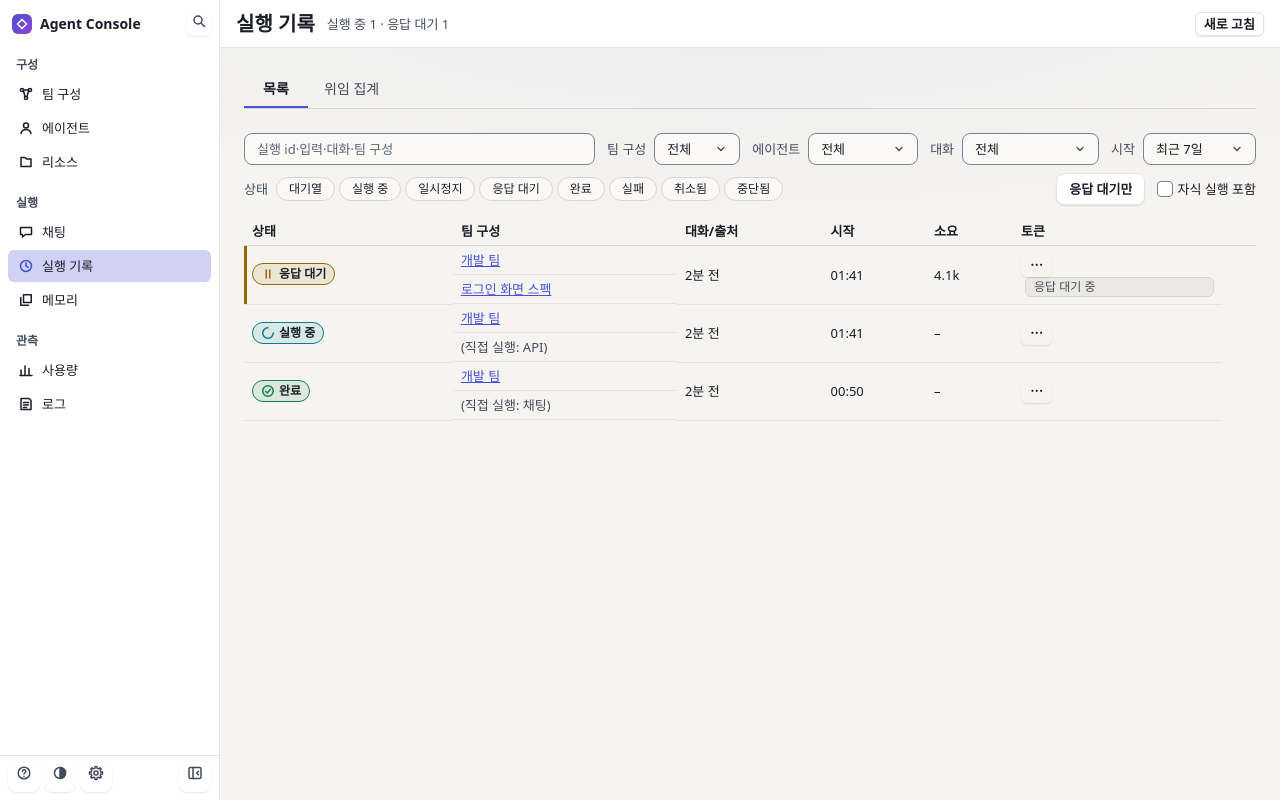
Test case: 실행 기록 목록 › [응답 대기만] 단축 필터가 상태를 URL에 반영하고, 결과가 없으면 필터 지우기를 안내한다
The width and height of the screenshot is (1280, 800).
Expected: the table named "실행 목록" is shown, left=244, top=217, right=1256, bottom=420
Click the button "응답 대기만" at (1101, 189), box left=1056, top=173, right=1146, bottom=205
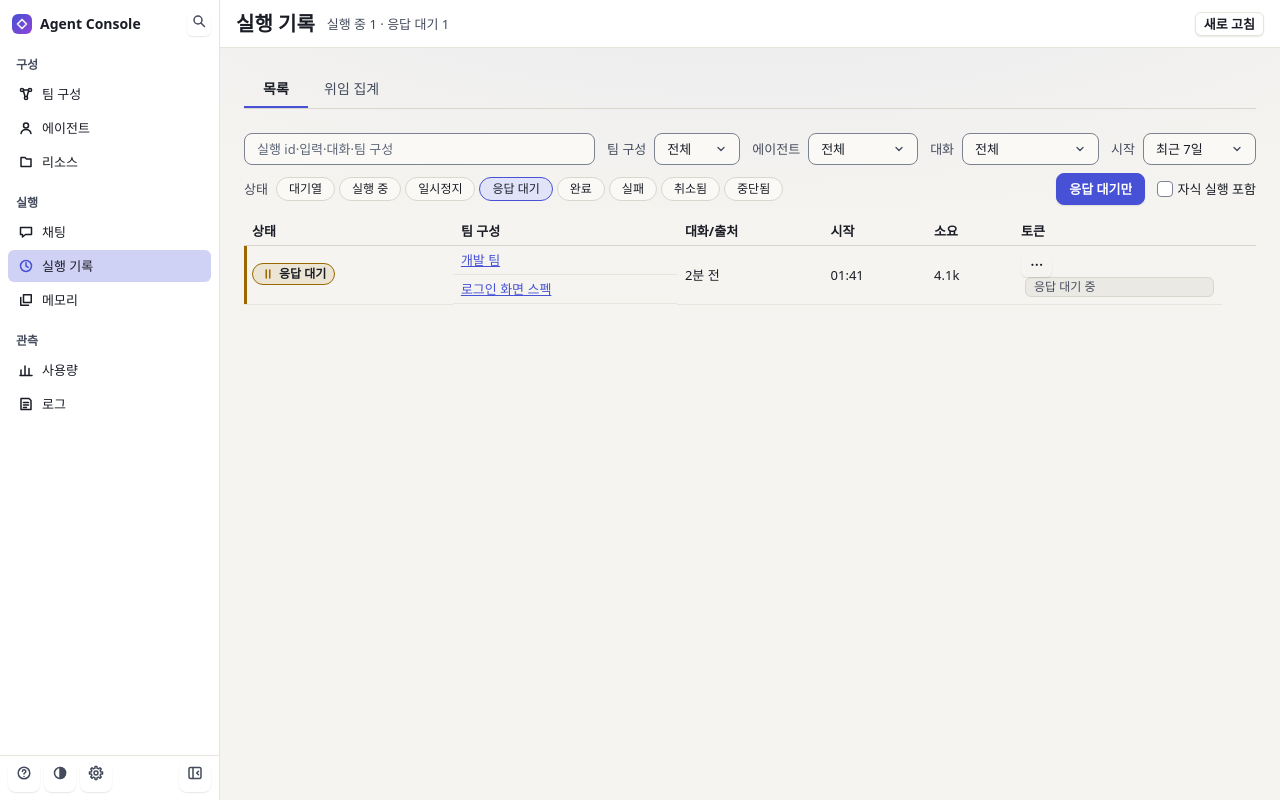
Expected: the number of rows is 2, left=244, top=217, right=1256, bottom=246; left=244, top=246, right=1256, bottom=304
Type "없는검색어" into the search field at (420, 149), box left=244, top=133, right=595, bottom=165
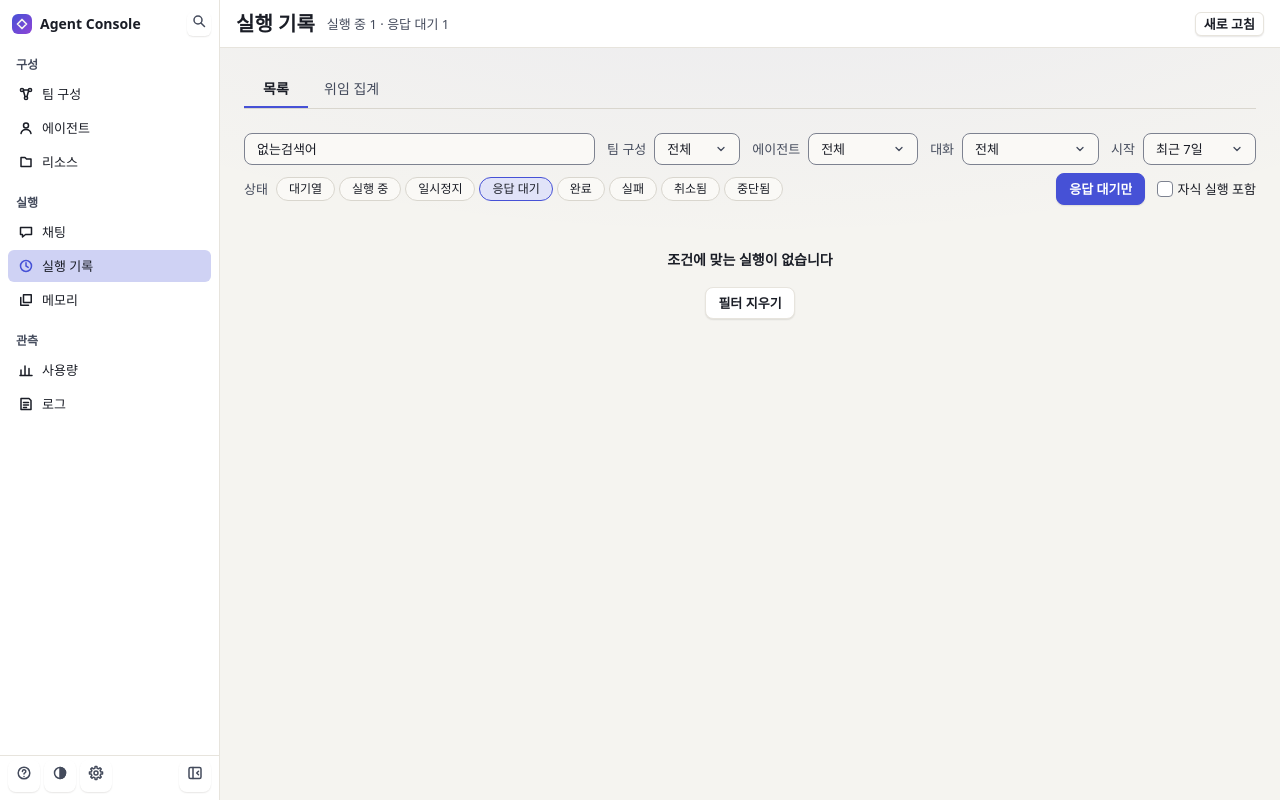
Expected: the heading "조건에 맞는 실행이 없습니다" is shown, left=667, top=249, right=833, bottom=271
Click the button "필터 지우기" at (750, 303), box left=705, top=287, right=795, bottom=319
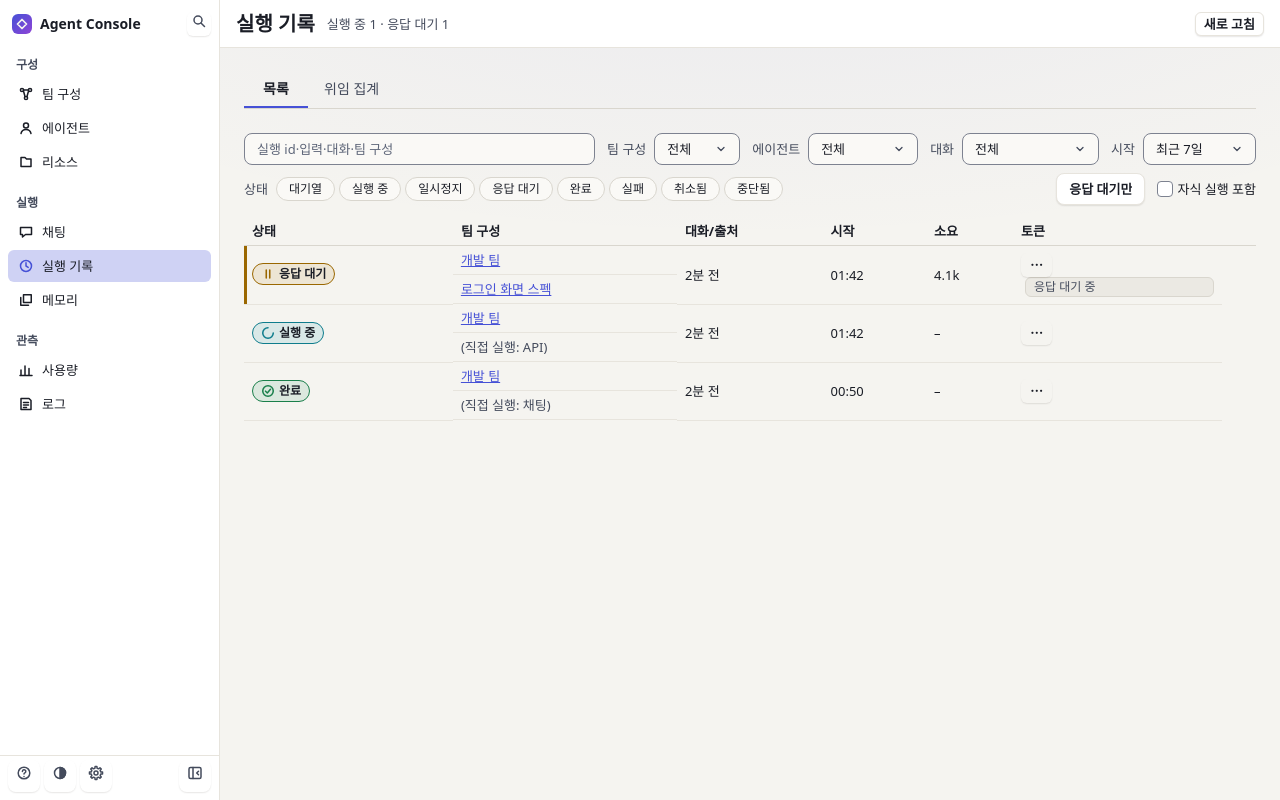
Expected: the table named "실행 목록" is shown, left=244, top=217, right=1256, bottom=420
